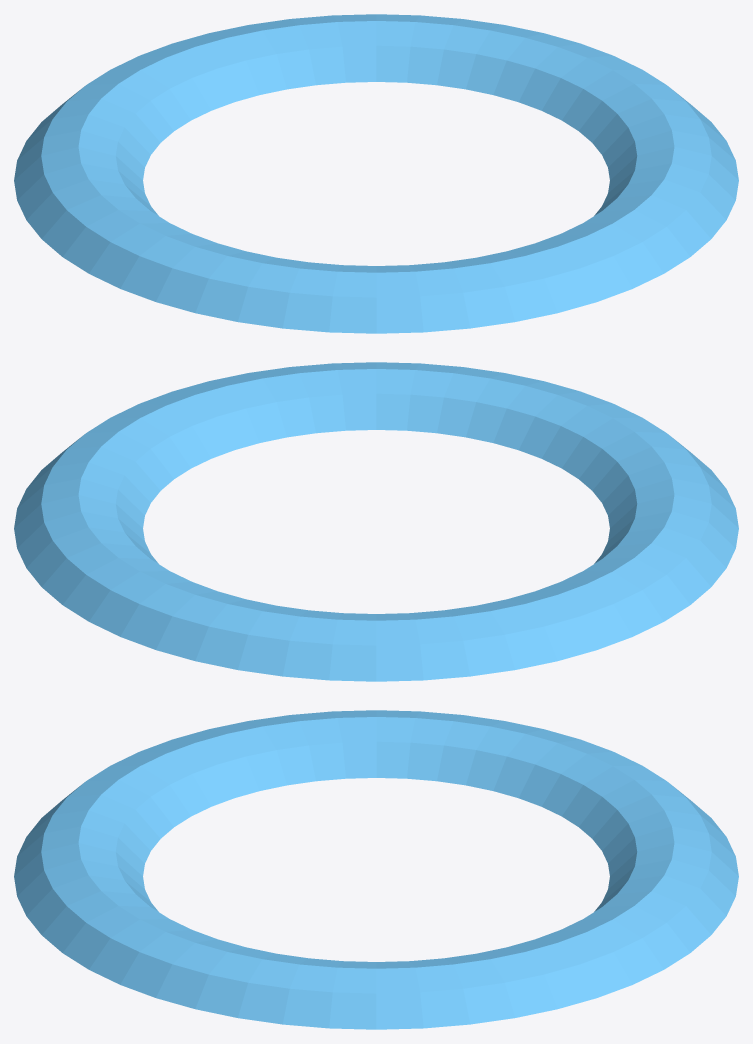
File: PlayerDestoryEffect.fbx
The picture shows the model from 3 angles, top to bottom: view 1: azimuth 30°, elevation 25°; view 2: azimuth 150°, elevation 25°; view 3: azimuth 270°, elevation 25°; orthographic projection.
Visible parts, largest first — view 1: Torus; view 2: Torus; view 3: Torus.
Boxes of the visible parts, box(x1,y1,x2,y2) form: Torus: box(14, 14, 738, 333); Torus: box(14, 362, 738, 681); Torus: box(14, 710, 738, 1029).
Size of the model in its own units: 2.43 by 0.125 by 2.43.
1 material, 1 textured.
